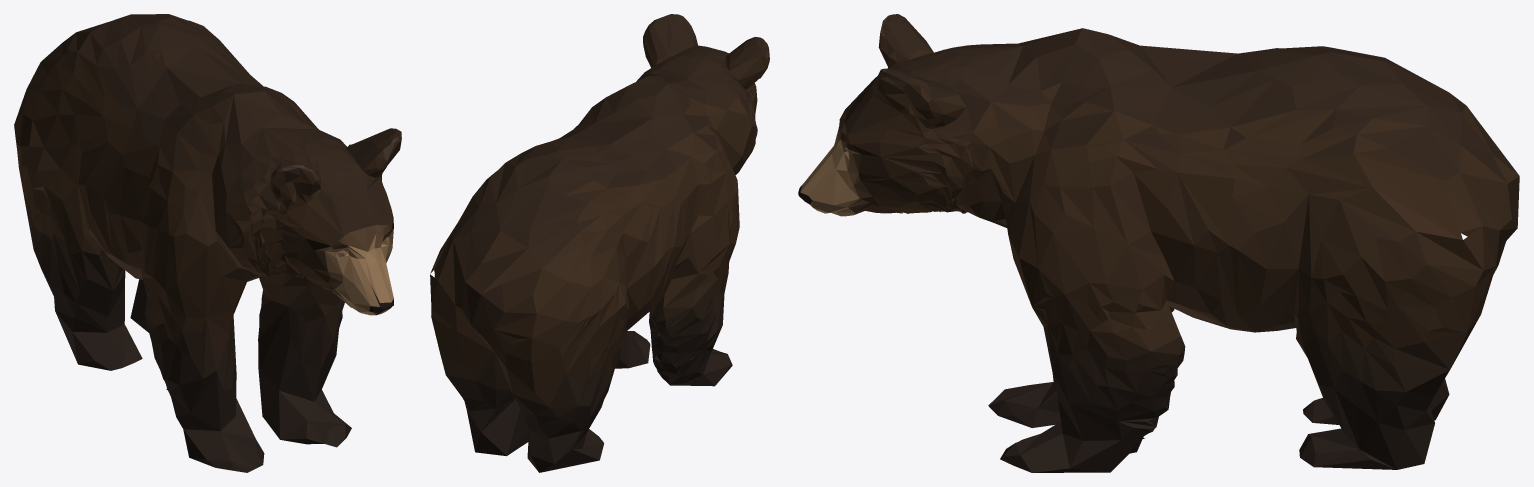
Rendered from bear.glb.
3 views of the same model, side by side, from view 1: azimuth 30°, elevation 25°; view 2: azimuth 150°, elevation 25°; view 3: azimuth 270°, elevation 25° (orthographic). The views are drawn at different scales.
Parts seen in each view (by area): view 1: lod0; view 2: lod0; view 3: lod0.
Boxes of the visible parts, x1,y1,x2,y2 form: lod0: (14,14,401,472); lod0: (430,14,769,472); lod0: (798,14,1519,472).
Size of what is drawn, in the model's own units: 0.5069 by 0.8179 by 1.34.
